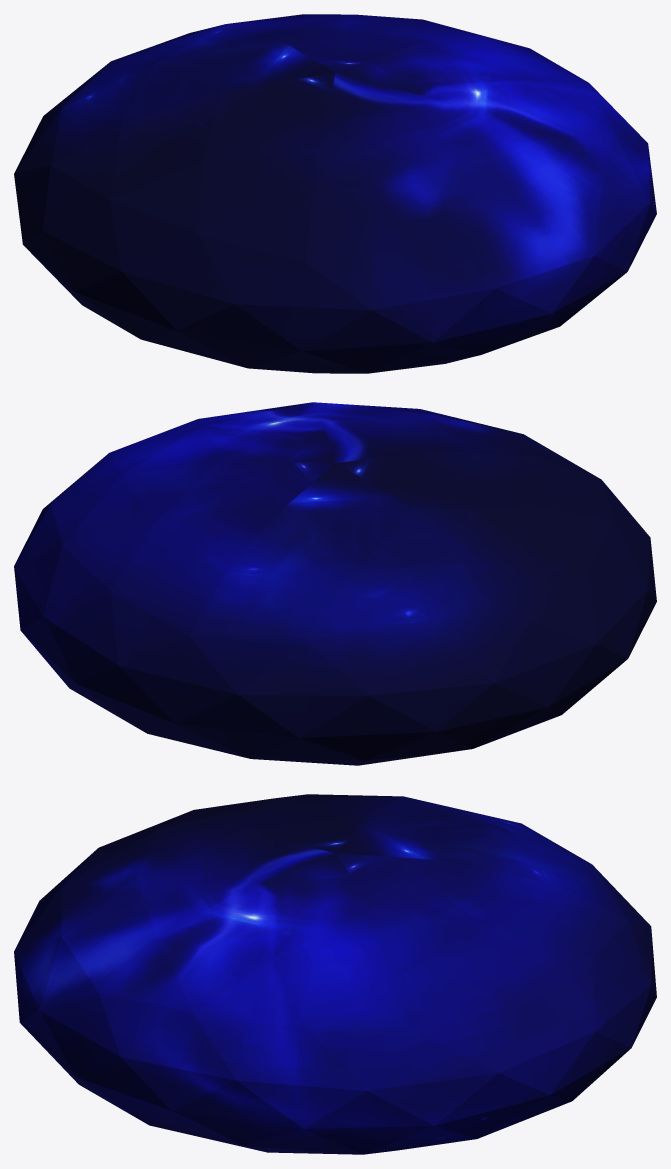
File: grey-frigate.fbx
The picture shows the model from 3 angles, top to bottom: view 1: azimuth 30°, elevation 25°; view 2: azimuth 150°, elevation 25°; view 3: azimuth 270°, elevation 25°; orthographic projection.
Visible parts, largest first — view 1: grey-frigate:Layer4, grey-frigate:Layer3, grey-frigate:Layer2, grey-frigate:Layer5; view 2: grey-frigate:Layer5, grey-frigate:Layer3, grey-frigate:Layer2, grey-frigate:Layer4; view 3: grey-frigate:Layer2, grey-frigate:Layer4, grey-frigate:Layer5, grey-frigate:Layer3.
Part boxes in pixels (box(x1,y1,x2,y2)): grey-frigate:Layer4: box(180, 135, 655, 373); grey-frigate:Layer3: box(14, 31, 417, 373); grey-frigate:Layer2: box(253, 14, 656, 217); grey-frigate:Layer5: box(16, 14, 429, 168); grey-frigate:Layer5: box(15, 525, 490, 765); grey-frigate:Layer3: box(252, 422, 656, 759); grey-frigate:Layer2: box(14, 404, 417, 574); grey-frigate:Layer4: box(281, 402, 655, 590); grey-frigate:Layer2: box(164, 853, 506, 1154); grey-frigate:Layer4: box(14, 819, 174, 1129); grey-frigate:Layer5: box(496, 819, 656, 1129); grey-frigate:Layer3: box(167, 794, 504, 872).
Bounding box in the file's own units: 231 × 96.6 × 232.
Materials: 8 (2 with a texture image).
